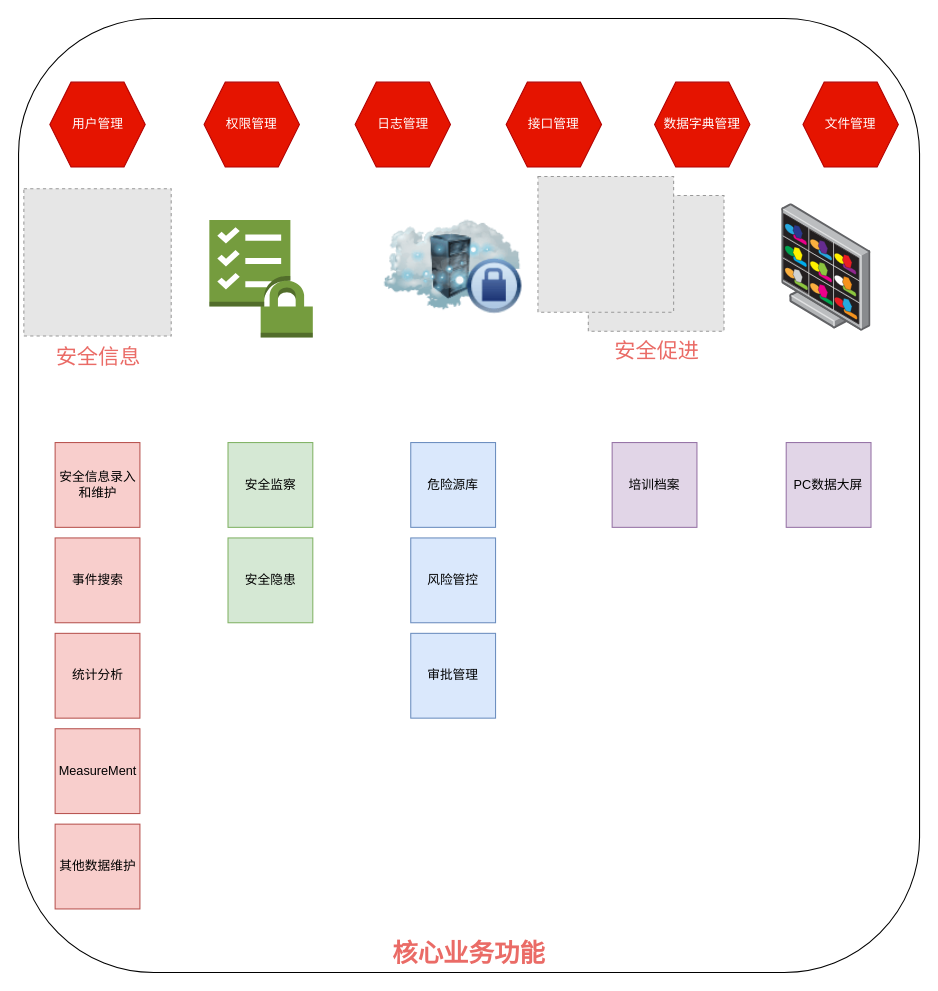
Some shapes in this 938 by 991 pixel diagram are drawn without their labels. Grey dashed boxes stand in for pictures. Each missing label, with the box of its shape:
安全保证: (208, 219, 313, 338)
数据分析大屏: (781, 203, 870, 331)
风险管理: (384, 198, 522, 335)
